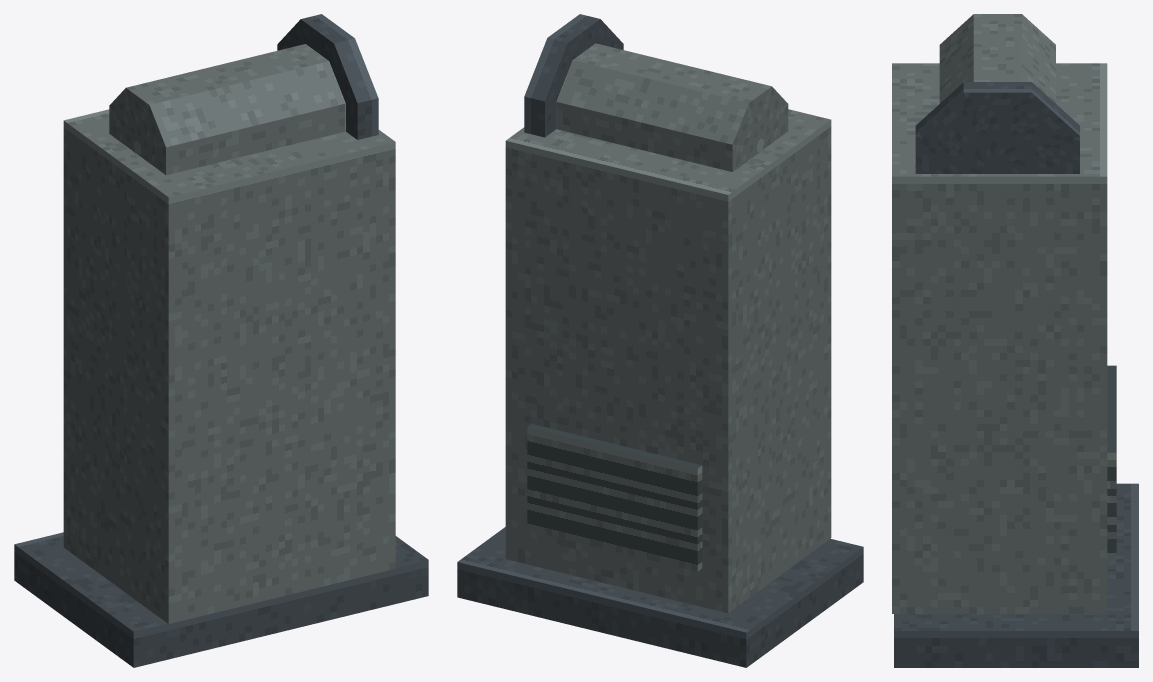
File: f_machinery_heavy.glb
3 views of the same model, side by side, from view 1: azimuth 30°, elevation 25°; view 2: azimuth 150°, elevation 25°; view 3: azimuth 270°, elevation 25° (orthographic). The views are drawn at different scales.
Parts seen in each view (by area): view 1: block_main-housing, block_motor, block_workshop-base, block_drive-wheel; view 2: block_main-housing, block_workshop-base, block_motor, block_vented-cover, block_drive-wheel; view 3: block_main-housing, block_workshop-base, block_drive-wheel, block_motor, block_vented-cover.
Part boxes in pixels (x1,y1,x2,y2): block_main-housing: (63,109,395,624); block_motor: (109,44,345,175); block_workshop-base: (14,532,428,667); block_drive-wheel: (277,14,378,139); block_main-housing: (505,109,831,613); block_workshop-base: (457,527,863,667); block_motor: (556,43,788,171); block_vented-cover: (527,424,702,571); block_drive-wheel: (524,14,623,137); block_main-housing: (892,63,1107,613); block_workshop-base: (894,483,1138,667); block_drive-wheel: (915,82,1079,173); block_motor: (939,14,1055,103); block_vented-cover: (1107,365,1116,560).
Size of the model in its own units: 0.94 by 1.65 by 0.665.
1 material, 1 textured.
